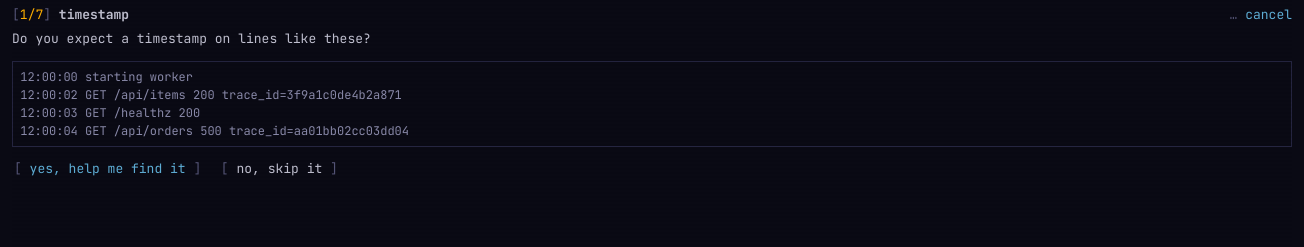
Test case: ExtractionWizard decision tree › draws the selection itself and double-click grabs the whole token
Later steps or results of the test are not shown.
Click the button "no, skip it" at [279, 168], box [219, 158, 340, 178]
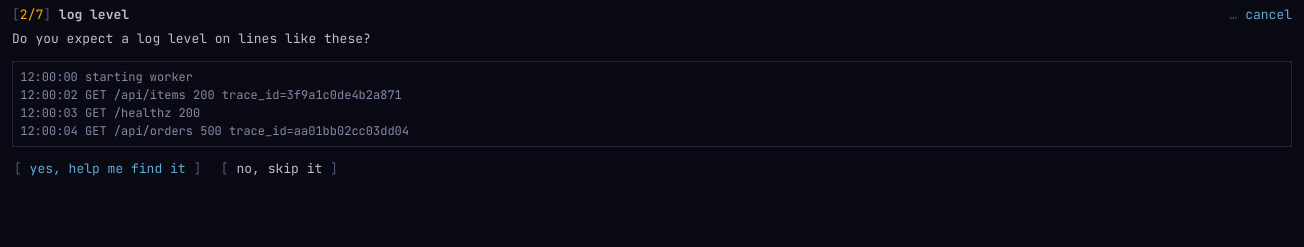
Click the button "no, skip it" at [279, 168], box [219, 158, 340, 178]
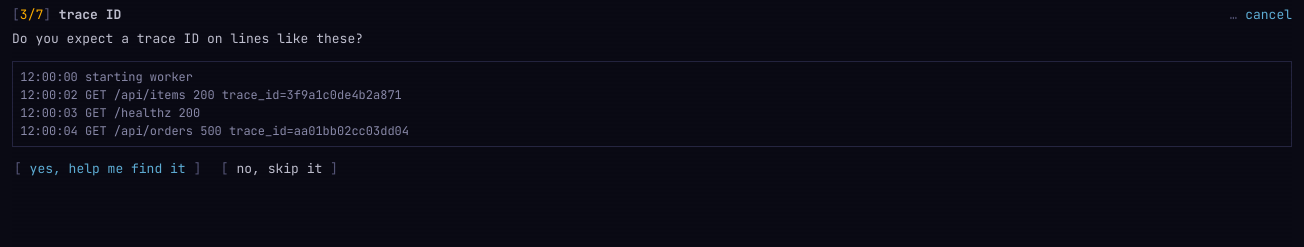
Click the button "yes, help me find it" at [108, 168], box [12, 158, 203, 178]
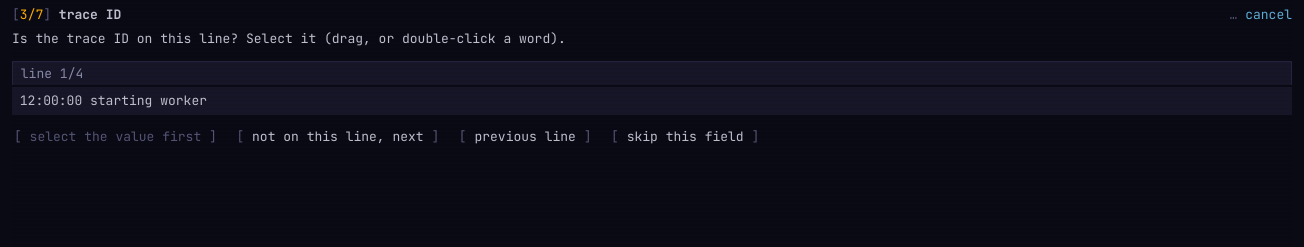
Click the button "not on this line, next" at [338, 136], box [234, 126, 441, 146]
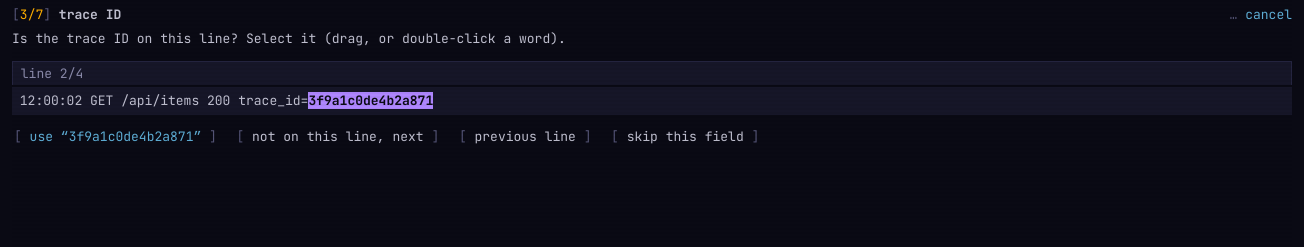
Click the button "use “3f9a1c0de4b2a871”" at [115, 136], box [12, 126, 219, 146]
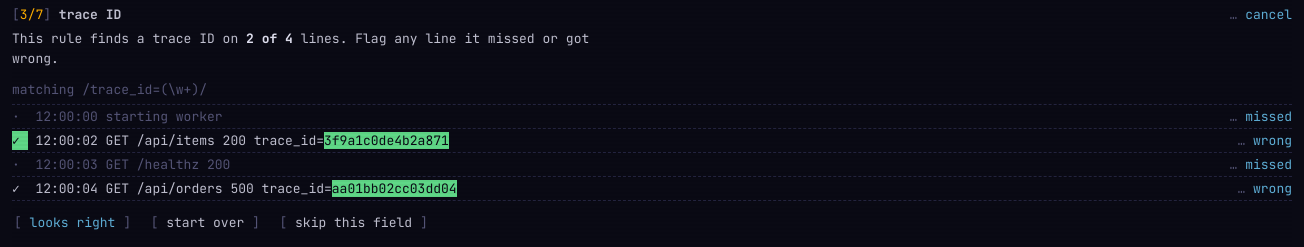
Expected: the text "3f9a1c0de4b2a871" is shown, [324, 132, 449, 148]
